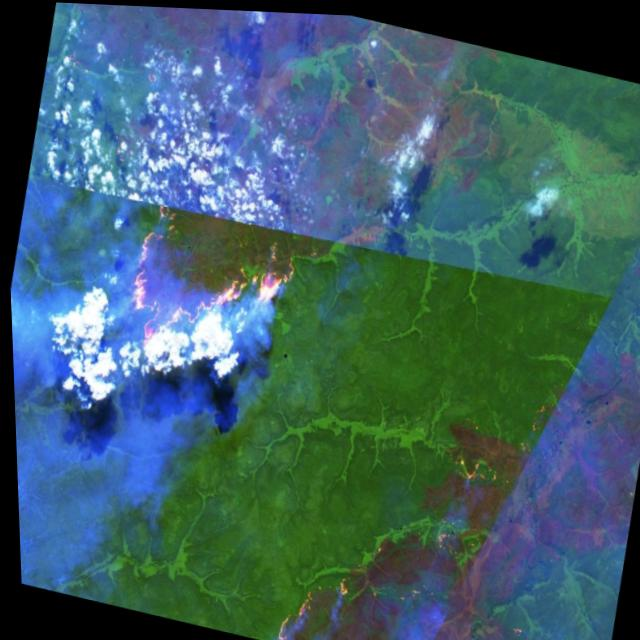fire: (107, 196, 310, 397), (264, 538, 364, 640)
